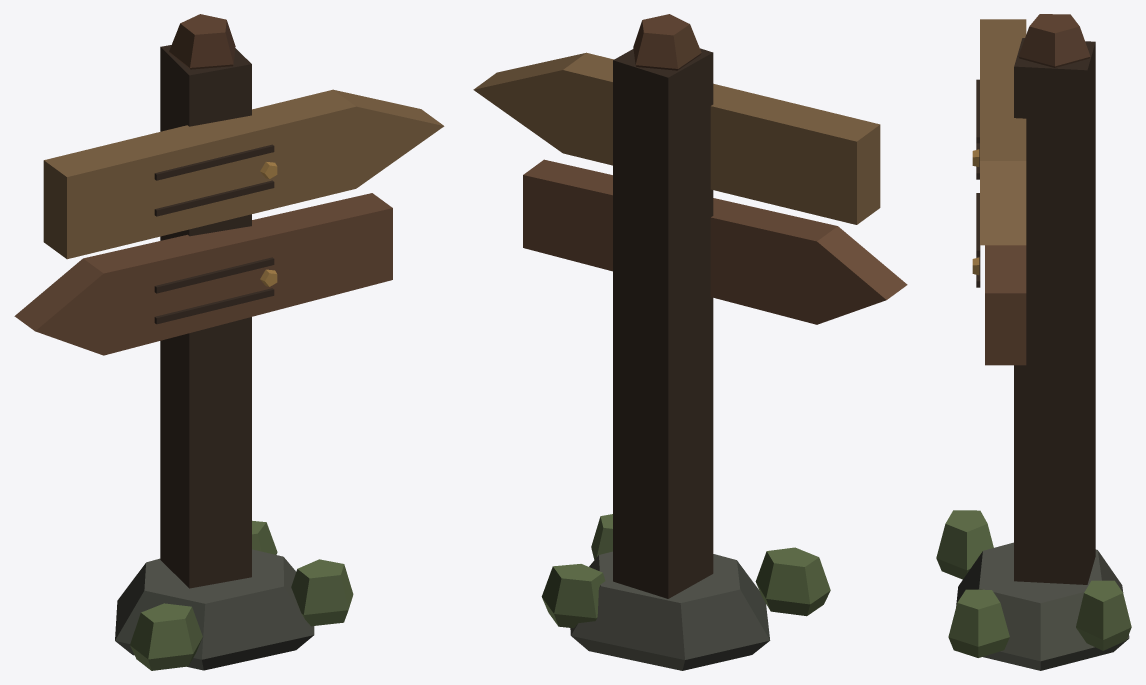
File: fork-sign.glb
The picture shows the model from 3 angles, left to right: view 1: azimuth 30°, elevation 25°; view 2: azimuth 150°, elevation 25°; view 3: azimuth 270°, elevation 25°; orthographic projection.
Visible parts, largest first — view 1: Old Svalich fork sign; view 2: Old Svalich fork sign; view 3: Old Svalich fork sign.
Part boxes in pixels (<box>): Old Svalich fork sign: <box>14,14,444,670</box>; Old Svalich fork sign: <box>473,14,907,670</box>; Old Svalich fork sign: <box>936,14,1131,670</box>.
Size of the model in its own units: 0.83 by 1.18 by 0.3442.
